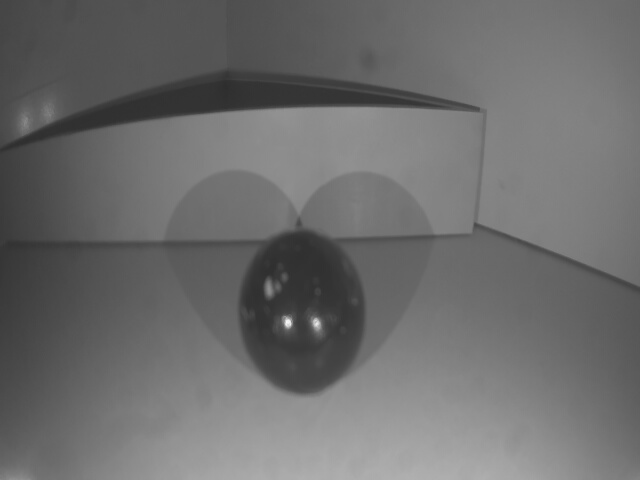Dead: (244, 238, 369, 395)
Red: (0, 110, 484, 249)
